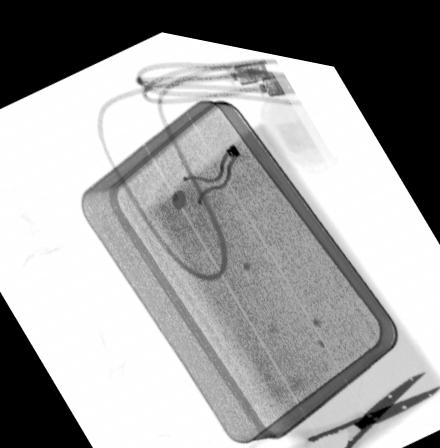Scissors: (247, 351, 440, 448)
